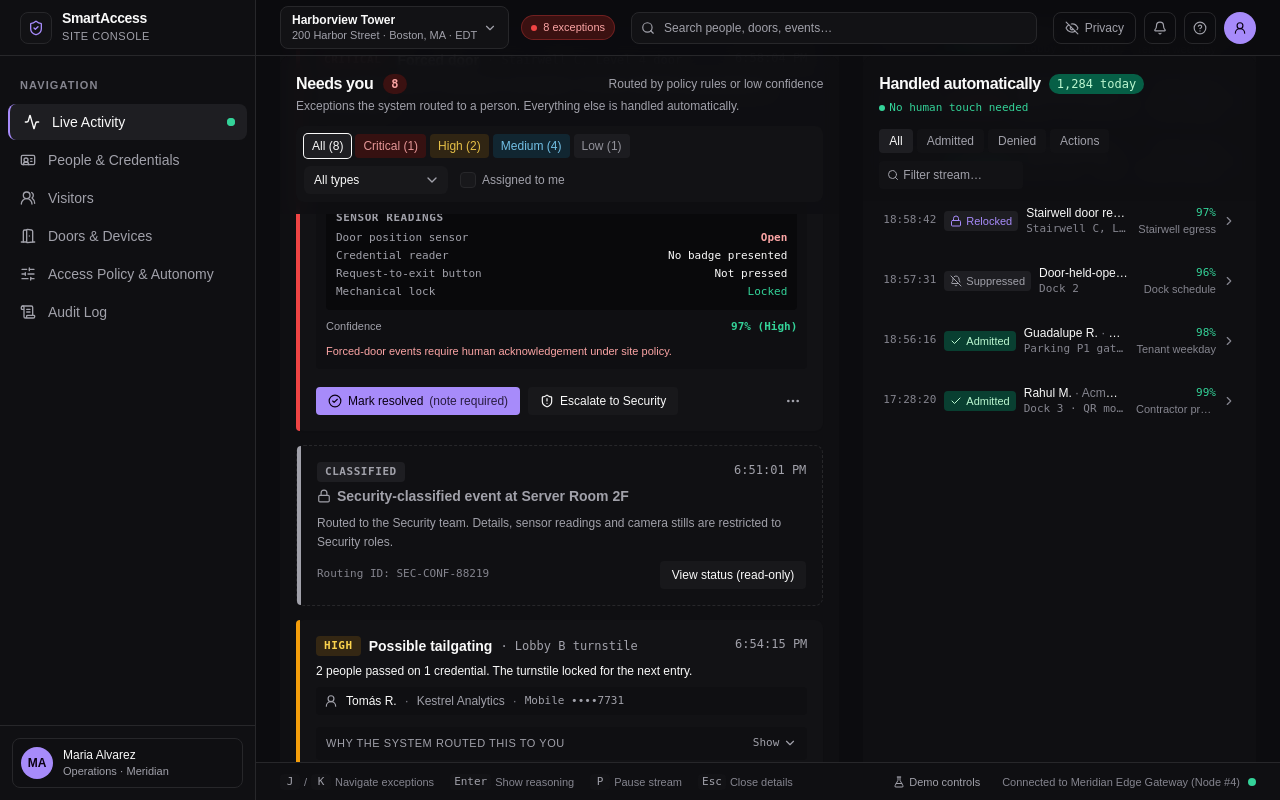
Scenario: Live Activity console › forced door needs a note before it can be resolved
(page scrolled)
Click the button "Mark resolved (note required)" at (418, 400), box [316,386,520,414]
(page scrolled)
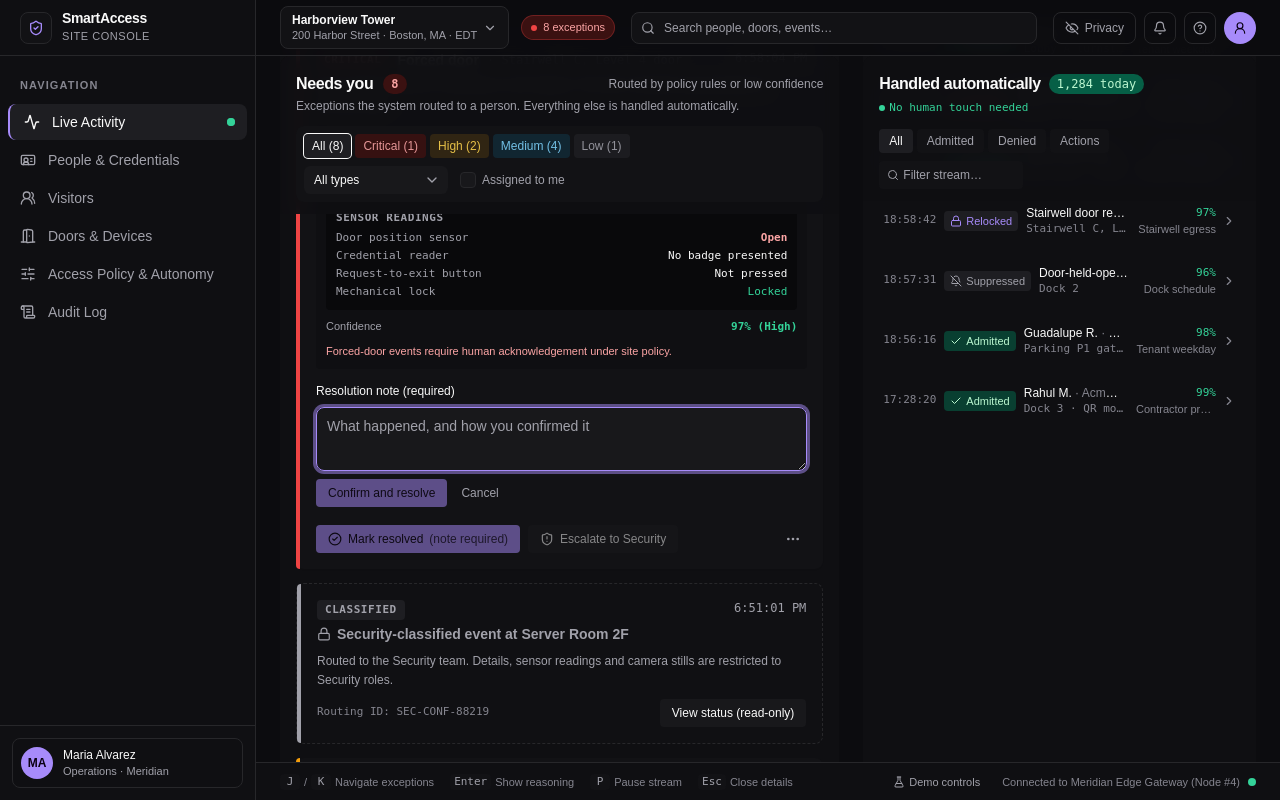
Result: the button "Confirm and resolve" is disabled at [316,478,447,506]
Type "Checked on camera" into the text box labelled "Resolution note (required)" at (562, 438), box [316,406,807,470]
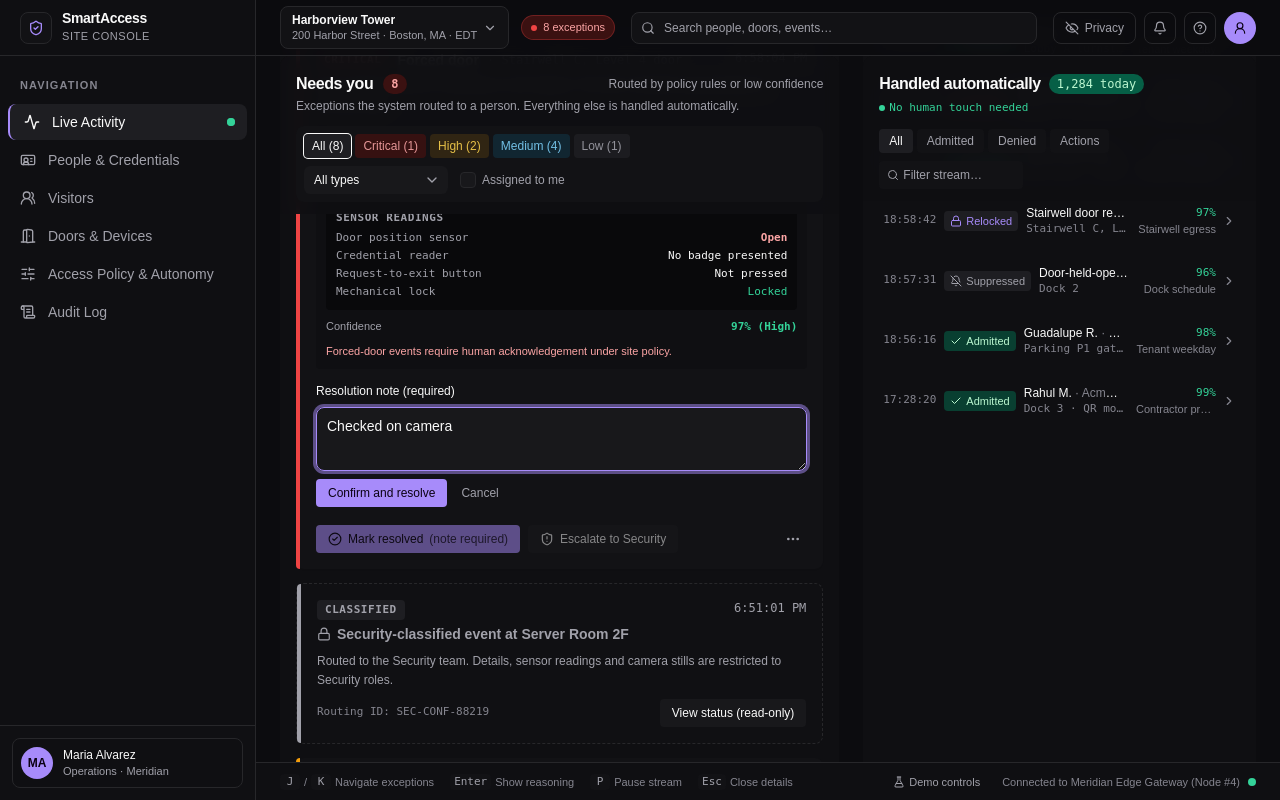
Result: the button "Confirm and resolve" is enabled at [316,478,447,506]
